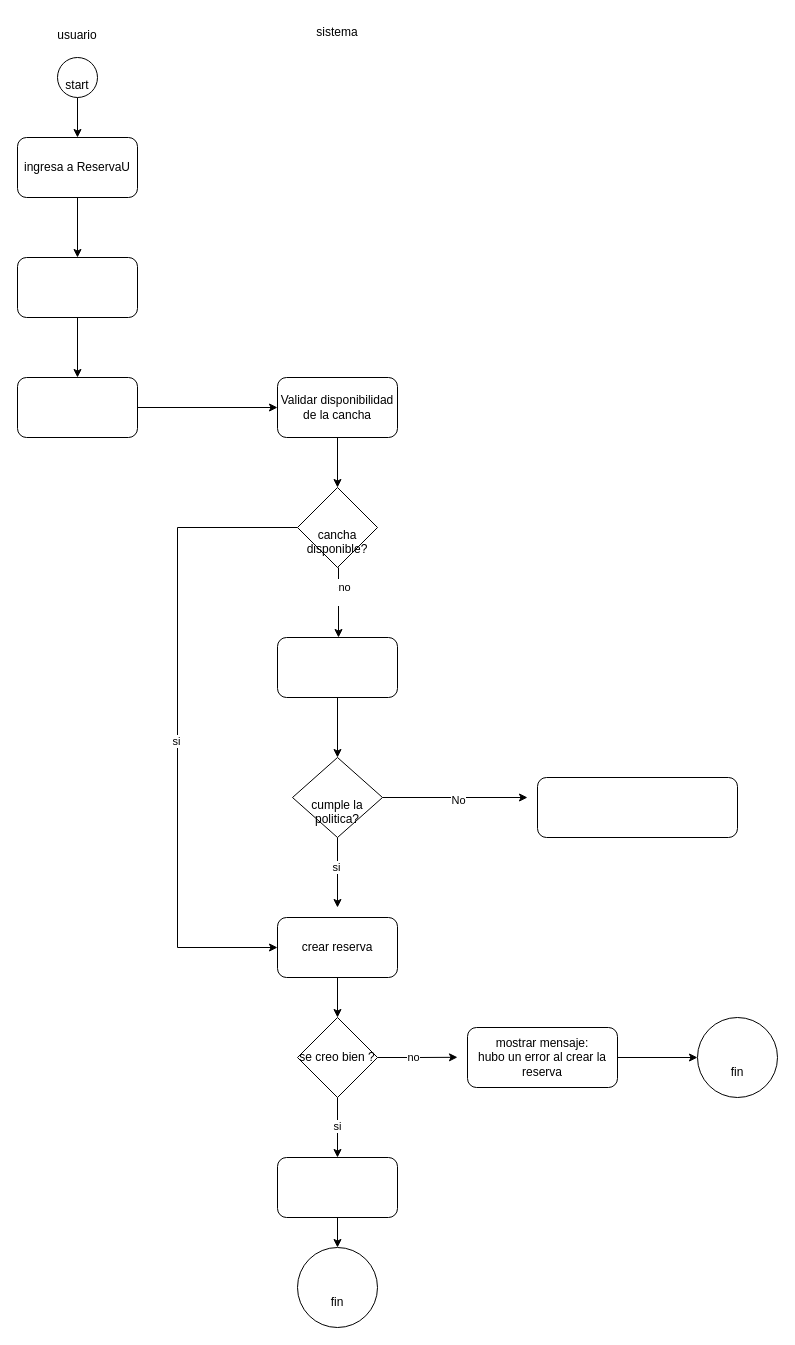
Some shapes in this 795 by 1345 pixel diagram are drawn without their labels. The centre of each missing label's shape, as x and y in pixels:
"click en Reservar" goes at [77,407].
"Mostrar mensaje no hay cancha disponible" goes at [637,807].
"mostrar mensaje: se creo correctamente" goes at [337,1187].
"Seleccionar cancha, fecha y hora" goes at [77,287].
"valida politica de prioridad" goes at [337,667].
